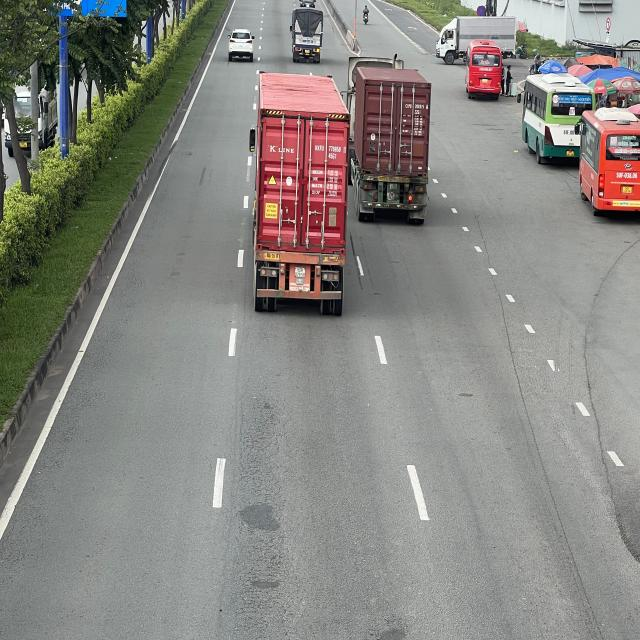car: (228, 30, 255, 64)
coach: (517, 74, 596, 168), (578, 107, 639, 216), (465, 42, 503, 99)
container: (252, 70, 351, 312), (348, 59, 431, 223)
truck: (436, 17, 517, 62), (289, 7, 325, 62)
